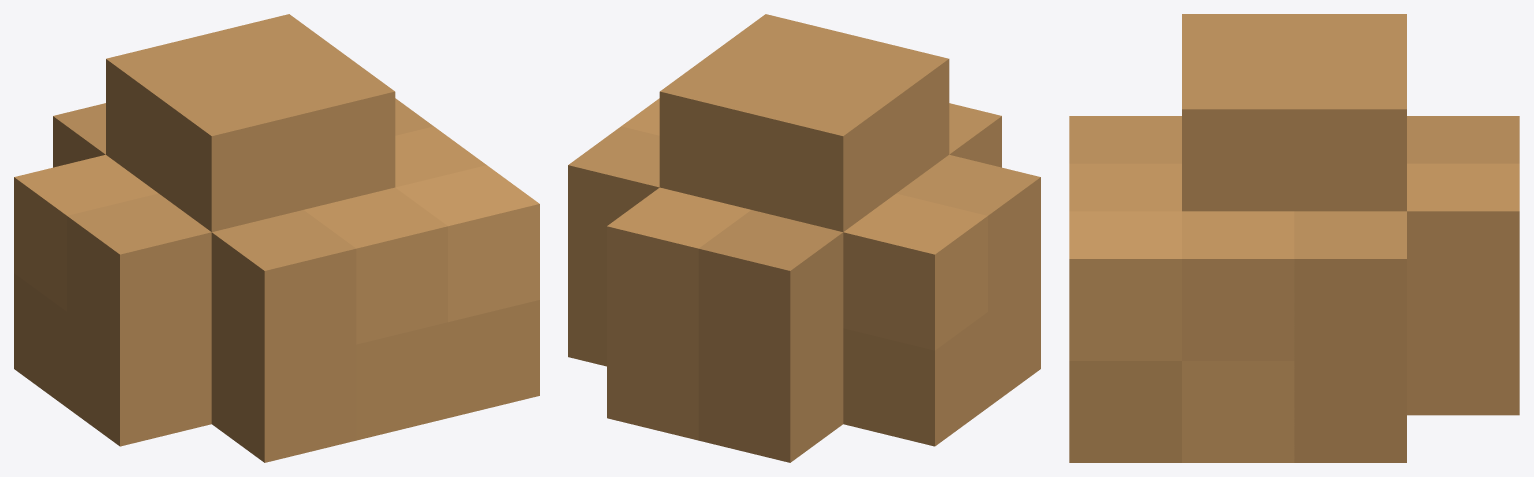
File: buisson_petit_3.glb
3 views of the same model, side by side, from view 1: azimuth 30°, elevation 25°; view 2: azimuth 150°, elevation 25°; view 3: azimuth 270°, elevation 25° (orthographic). The views are drawn at different scales.
Parts seen in each view (by area): view 1: geometry_0; view 2: geometry_0; view 3: geometry_0.
Boxes of the visible parts, x1,y1,x2,y2 form: geometry_0: [14, 14, 539, 462]; geometry_0: [568, 14, 1040, 462]; geometry_0: [1069, 14, 1519, 462].
Bounding box in the file's own units: 1 × 0.75 × 1.
